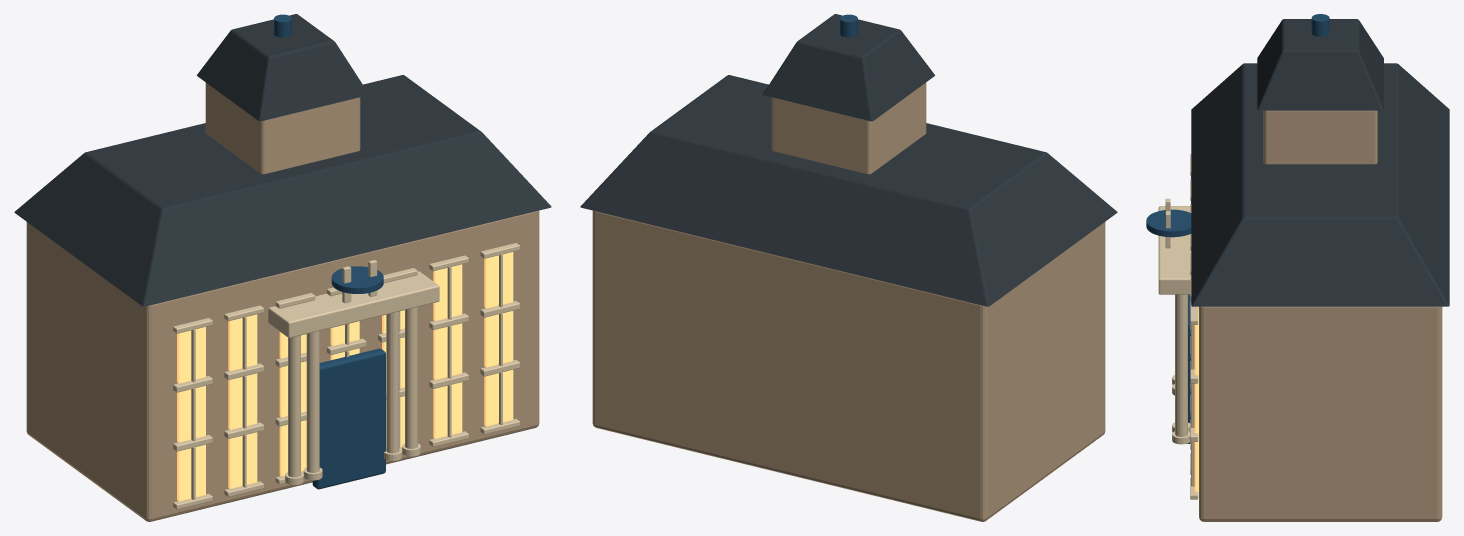
File: paris-police.glb
3 views of the same model, side by side, from view 1: azimuth 30°, elevation 25°; view 2: azimuth 150°, elevation 25°; view 3: azimuth 270°, elevation 25° (orthographic).
Visible parts, largest first — view 1: Optimized Paris landmark; view 2: Optimized Paris landmark; view 3: Optimized Paris landmark.
Boxes of the visible parts, x1=… form: Optimized Paris landmark: x1=14, y1=14, x2=551, y2=521; Optimized Paris landmark: x1=580, y1=14, x2=1117, y2=521; Optimized Paris landmark: x1=1146, y1=14, x2=1449, y2=521.
Bounding box in the file's own units: 9.45 × 9.12 × 6.11.
